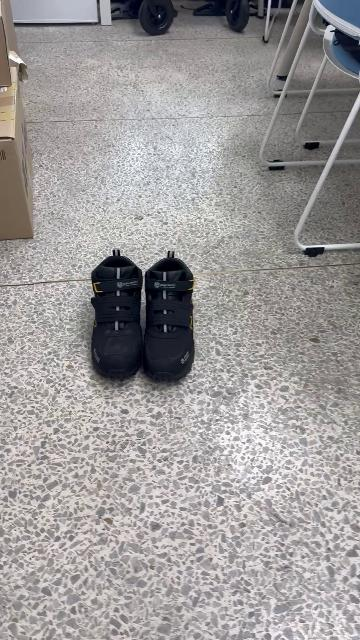shoe_worn: (142, 251, 203, 386), (87, 251, 144, 381)
